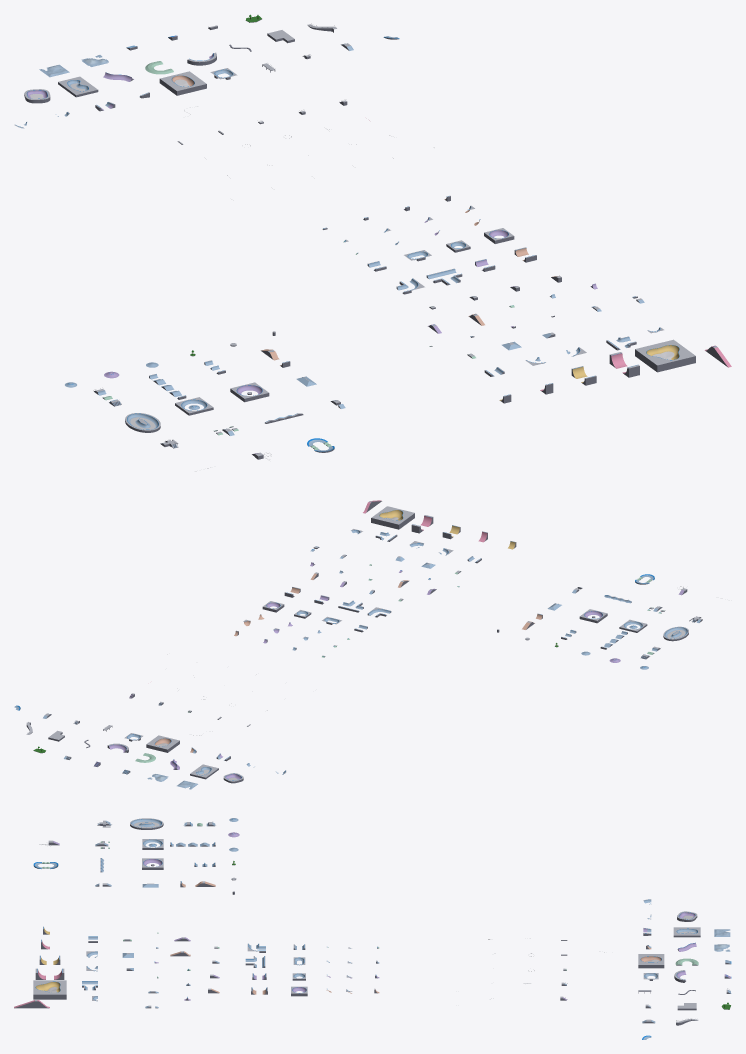
Rendered from rollergirl_kit_library.glb.
3 views of the same model, one above another, from view 1: azimuth 30°, elevation 25°; view 2: azimuth 150°, elevation 25°; view 3: azimuth 270°, elevation 25° (orthographic). The views are drawn at different scales.
Parts seen in each view (by area): view 1: fn_freeBowl_XXL_1, fn_freeBowl_XL_1; view 2: fn_freeBowl_XXL_1; view 3: fn_freeBowl_XXL_1, fn_freeBowl_XL_1.
Boxes of the visible parts, <box> form: fn_freeBowl_XXL_1: <box>635,339,695,372</box>; fn_freeBowl_XL_1: <box>159,71,206,95</box>; fn_freeBowl_XXL_1: <box>371,506,414,529</box>; fn_freeBowl_XXL_1: <box>33,980,66,999</box>; fn_freeBowl_XL_1: <box>638,954,664,968</box>.
Size of the model in its own units: 657 by 9.6 by 898.
